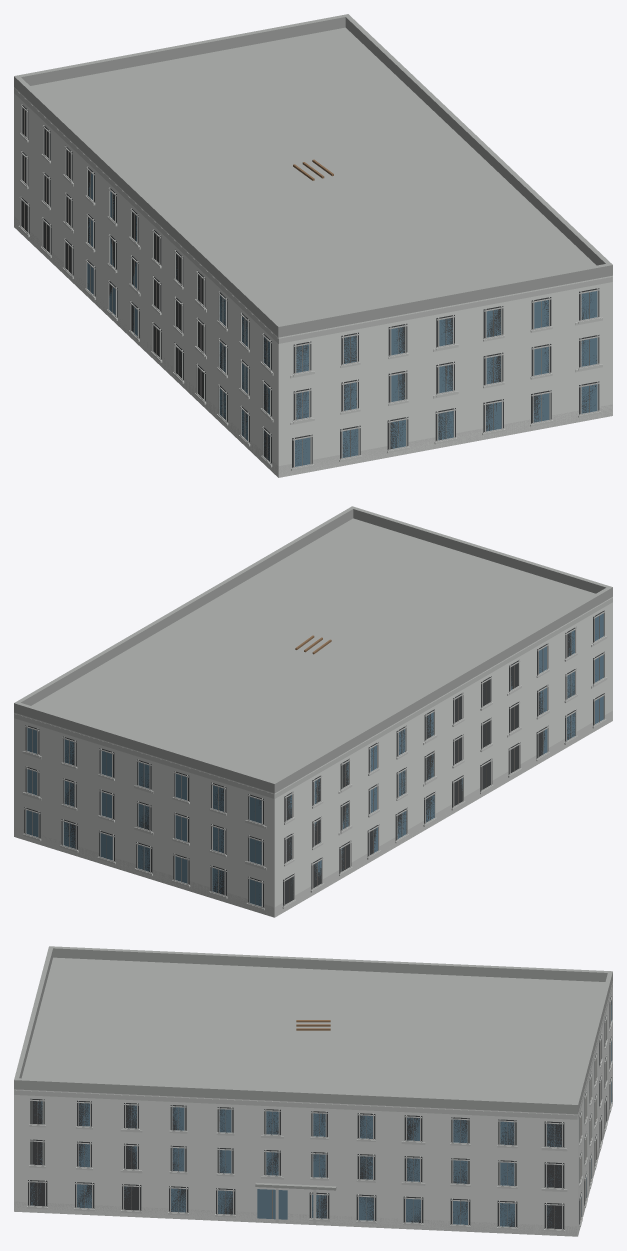
The model's file is cop_hotel_contemporaneo_05__way_1010809495.fbx.
3 views of the same model, one above another, from view 1: azimuth 30°, elevation 25°; view 2: azimuth 150°, elevation 25°; view 3: azimuth 270°, elevation 25° (orthographic). The views are drawn at different scales.
Visible parts, largest first — view 1: cop_hotel_contemporaneo_05__way_1010809495_roof, cop_hotel_contemporaneo_05__way_1010809495_wall, cop_hotel_contemporaneo_05__way_1010809495_shadow, cop_hotel_contemporaneo_05__way_1010809495_trim, cop_hotel_contemporaneo_05__way_1010809495_glass, cop_hotel_contemporaneo_05__way_1010809495_stone, cop_hotel_contemporaneo_05__way_1010809495_metal; view 2: cop_hotel_contemporaneo_05__way_1010809495_roof, cop_hotel_contemporaneo_05__way_1010809495_wall, cop_hotel_contemporaneo_05__way_1010809495_trim, cop_hotel_contemporaneo_05__way_1010809495_shadow, cop_hotel_contemporaneo_05__way_1010809495_glass, cop_hotel_contemporaneo_05__way_1010809495_stone, cop_hotel_contemporaneo_05__way_1010809495_metal; view 3: cop_hotel_contemporaneo_05__way_1010809495_roof, cop_hotel_contemporaneo_05__way_1010809495_wall, cop_hotel_contemporaneo_05__way_1010809495_shadow, cop_hotel_contemporaneo_05__way_1010809495_glass, cop_hotel_contemporaneo_05__way_1010809495_trim, cop_hotel_contemporaneo_05__way_1010809495_stone, cop_hotel_contemporaneo_05__way_1010809495_metal.
Part boxes in pixels (bbox=[...]): cop_hotel_contemporaneo_05__way_1010809495_roof: bbox=[14, 14, 612, 337]; cop_hotel_contemporaneo_05__way_1010809495_wall: bbox=[14, 87, 612, 477]; cop_hotel_contemporaneo_05__way_1010809495_shadow: bbox=[20, 104, 599, 467]; cop_hotel_contemporaneo_05__way_1010809495_trim: bbox=[14, 88, 612, 468]; cop_hotel_contemporaneo_05__way_1010809495_glass: bbox=[87, 173, 597, 466]; cop_hotel_contemporaneo_05__way_1010809495_stone: bbox=[14, 133, 612, 477]; cop_hotel_contemporaneo_05__way_1010809495_metal: bbox=[24, 110, 589, 465]; cop_hotel_contemporaneo_05__way_1010809495_roof: bbox=[14, 506, 612, 793]; cop_hotel_contemporaneo_05__way_1010809495_wall: bbox=[14, 597, 612, 917]; cop_hotel_contemporaneo_05__way_1010809495_trim: bbox=[14, 598, 612, 908]; cop_hotel_contemporaneo_05__way_1010809495_shadow: bbox=[24, 610, 604, 907]; cop_hotel_contemporaneo_05__way_1010809495_glass: bbox=[26, 613, 603, 906]; cop_hotel_contemporaneo_05__way_1010809495_stone: bbox=[22, 636, 612, 917]; cop_hotel_contemporaneo_05__way_1010809495_metal: bbox=[32, 616, 599, 904]; cop_hotel_contemporaneo_05__way_1010809495_roof: bbox=[14, 946, 612, 1190]; cop_hotel_contemporaneo_05__way_1010809495_wall: bbox=[14, 981, 612, 1236]; cop_hotel_contemporaneo_05__way_1010809495_shadow: bbox=[28, 996, 611, 1229]; cop_hotel_contemporaneo_05__way_1010809495_glass: bbox=[30, 1001, 611, 1227]; cop_hotel_contemporaneo_05__way_1010809495_trim: bbox=[14, 982, 612, 1230]; cop_hotel_contemporaneo_05__way_1010809495_stone: bbox=[14, 1020, 612, 1236]; cop_hotel_contemporaneo_05__way_1010809495_metal: bbox=[37, 1003, 610, 1228].
Size of the model in its own units: 2505 by 977 by 3993.
